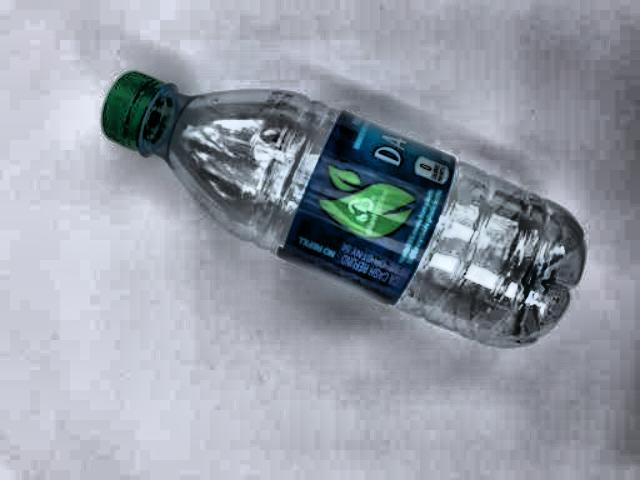Bottles: (74, 59, 594, 353)
